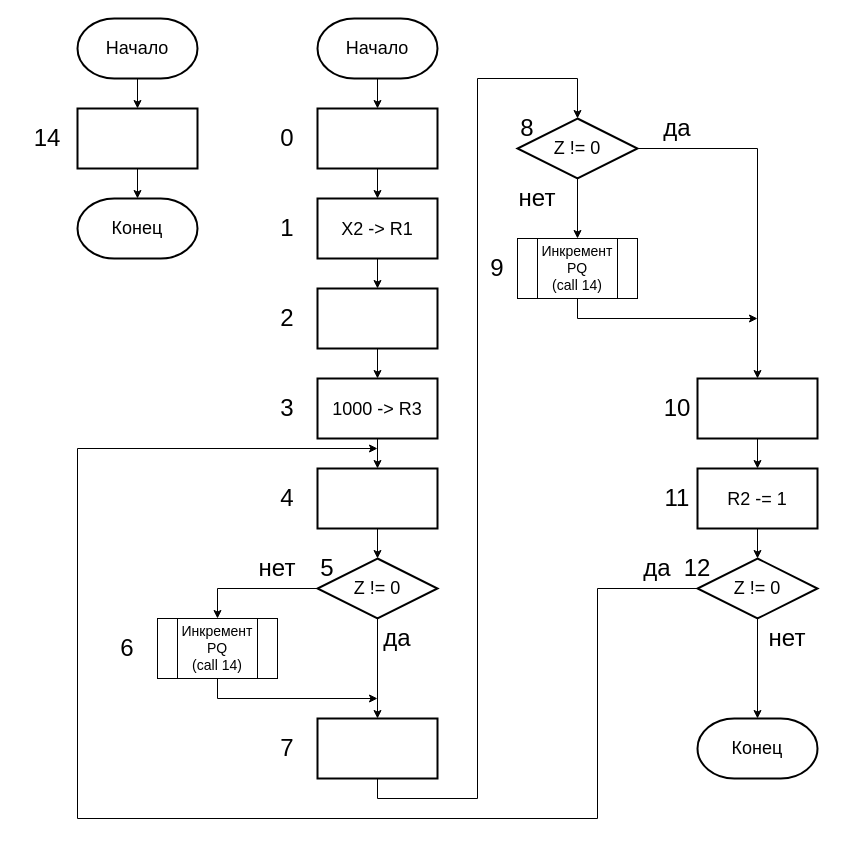
The diagram is 844 pixels wide and 844 high, and some of its shapes have lost their labels. Here are the shapes that lost their labels. From the top down, the centre of each, then its label:
(137,138): PQ += 1
(377,138): X1 - > R0
(377,318): 4 -> R2
(757,408): R3 = R3 / 2
(377,498): R0 & R3
(377,748): R1 & R3
